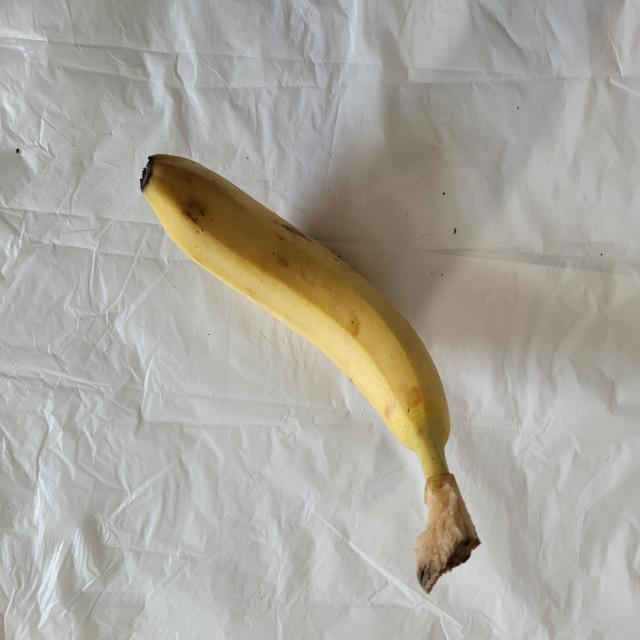Banana: (126, 143, 488, 598)
